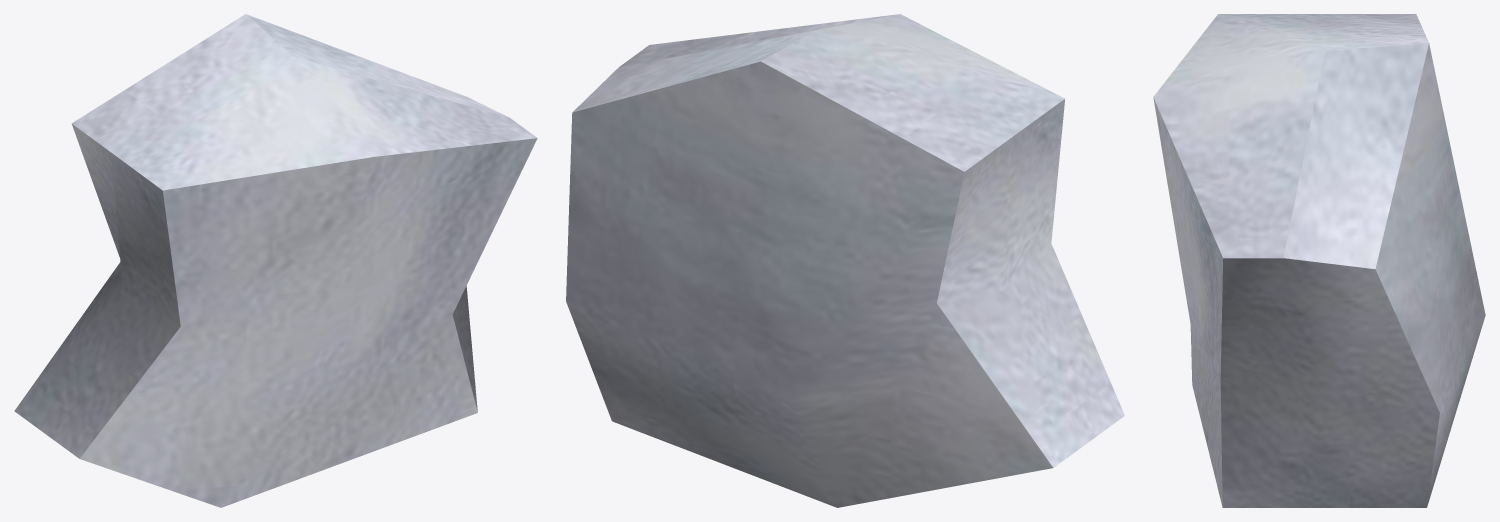
The model's file is snow_ball_5.obj.
3 views of the same model, side by side, from view 1: azimuth 30°, elevation 25°; view 2: azimuth 150°, elevation 25°; view 3: azimuth 270°, elevation 25° (orthographic). The views are drawn at different scales.
Parts seen in each view (by area): view 1: pCube7; view 2: pCube7; view 3: pCube7.
Part boxes in pixels (bbox=[...]): pCube7: bbox=[14, 14, 537, 507]; pCube7: bbox=[566, 14, 1124, 507]; pCube7: bbox=[1153, 14, 1485, 507].
Size of the model in its own units: 3.07 by 2.63 by 1.83.
